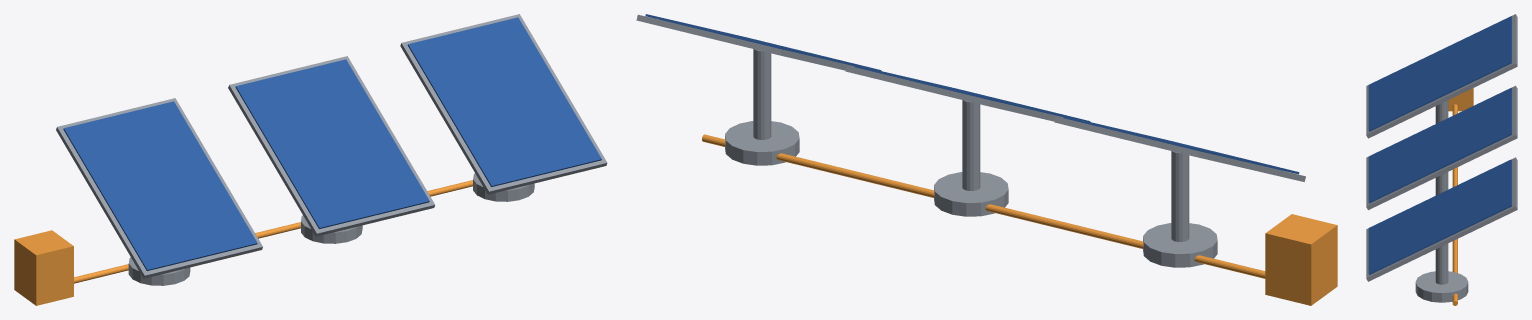
The model's file is solar-panels-array.glb.
3 renders of one model, left to right at view 1: azimuth 30°, elevation 25°; view 2: azimuth 150°, elevation 25°; view 3: azimuth 270°, elevation 25°, orthographic. The views are drawn at different scales.
Visible parts, largest first — view 1: Solar_Cells_Surface_02, Solar_Cells_Surface_01, Solar_Cells_Surface_03, Solar_Junction_Box, Solar_Frame_03, Solar_Frame_01, Solar_Frame_02, Power_Conduit_Line, Solar_Base_01, Solar_Base_03, Solar_Base_02; view 2: Solar_Junction_Box, Power_Conduit_Line, Solar_Base_01, Solar_Base_02, Solar_Base_03, Solar_Frame_01, Solar_Pillar_01, Solar_Pillar_02, Solar_Pillar_03, Solar_Frame_02, Solar_Frame_03, Solar_Cells_Surface_01 (+2 smaller); view 3: Solar_Cells_Surface_03, Solar_Cells_Surface_01, Solar_Cells_Surface_02, Solar_Frame_02, Solar_Frame_01, Solar_Frame_03, Solar_Base_03, Solar_Pillar_03, Power_Conduit_Line, Solar_Junction_Box, Solar_Pillar_01, Solar_Pillar_02.
Boxes of the visible parts, x1=… form: Solar_Cells_Surface_02: x1=235, y1=59, x2=429, y2=228; Solar_Cells_Surface_01: x1=63, y1=101, x2=257, y2=270; Solar_Cells_Surface_03: x1=407, y1=17, x2=601, y2=186; Solar_Junction_Box: x1=14, y1=230, x2=73, y2=305; Solar_Frame_03: x1=400, y1=14, x2=607, y2=194; Solar_Frame_01: x1=56, y1=98, x2=262, y2=278; Solar_Frame_02: x1=228, y1=56, x2=434, y2=236; Power_Conduit_Line: x1=23, y1=180, x2=472, y2=295; Solar_Base_01: x1=128, y1=257, x2=190, y2=285; Solar_Base_03: x1=473, y1=173, x2=534, y2=201; Solar_Base_02: x1=301, y1=215, x2=362, y2=243; Solar_Junction_Box: x1=1265, y1=214, x2=1337, y2=305; Power_Conduit_Line: x1=702, y1=134, x2=1326, y2=292; Solar_Base_01: x1=1143, y1=223, x2=1217, y2=267; Solar_Base_02: x1=934, y1=172, x2=1008, y2=216; Solar_Base_03: x1=725, y1=121, x2=799, y2=165; Solar_Frame_01: x1=1054, y1=116, x2=1305, y2=181; Solar_Pillar_01: x1=1171, y1=151, x2=1189, y2=241; Solar_Pillar_02: x1=962, y1=100, x2=980, y2=190; Solar_Pillar_03: x1=753, y1=49, x2=771, y2=139; Solar_Frame_02: x1=845, y1=65, x2=1071, y2=121; Solar_Frame_03: x1=636, y1=14, x2=856, y2=70; Solar_Cells_Surface_01: x1=1063, y1=116, x2=1299, y2=174; Solar_Cells_Surface_03: x1=1368, y1=159, x2=1511, y2=274; Solar_Cells_Surface_01: x1=1368, y1=16, x2=1511, y2=131; Solar_Cells_Surface_02: x1=1368, y1=88, x2=1511, y2=203; Solar_Frame_02: x1=1366, y1=85, x2=1517, y2=210; Solar_Frame_01: x1=1366, y1=14, x2=1517, y2=138; Solar_Frame_03: x1=1366, y1=157, x2=1517, y2=281; Solar_Base_03: x1=1415, y1=271, x2=1468, y2=302; Solar_Pillar_03: x1=1435, y1=243, x2=1448, y2=284; Power_Conduit_Line: x1=1452, y1=104, x2=1457, y2=305; Solar_Junction_Box: x1=1448, y1=88, x2=1473, y2=111; Solar_Pillar_01: x1=1435, y1=100, x2=1448, y2=123; Solar_Pillar_02: x1=1435, y1=172, x2=1448, y2=195.
Bounding box in the file's own units: 9.85 × 2.29 × 2.86.
